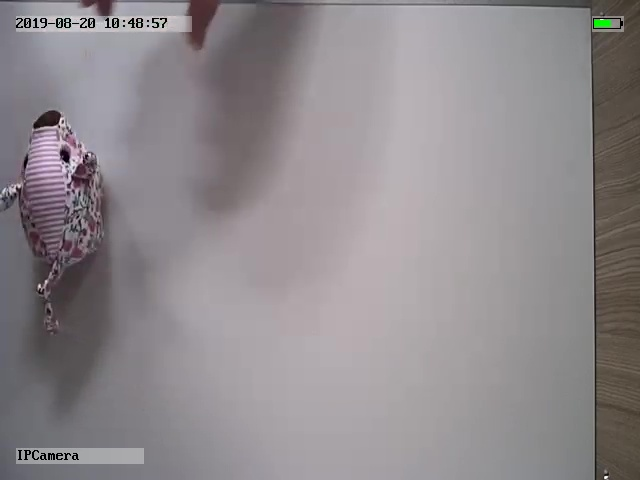pig: (1, 108, 104, 338)
